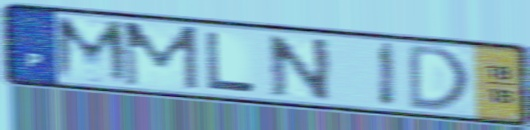D: (406, 41, 472, 112)
I: (376, 39, 399, 111)
L: (202, 29, 259, 94)
M: (51, 13, 135, 88), (121, 20, 203, 93)
N: (264, 33, 335, 103)
